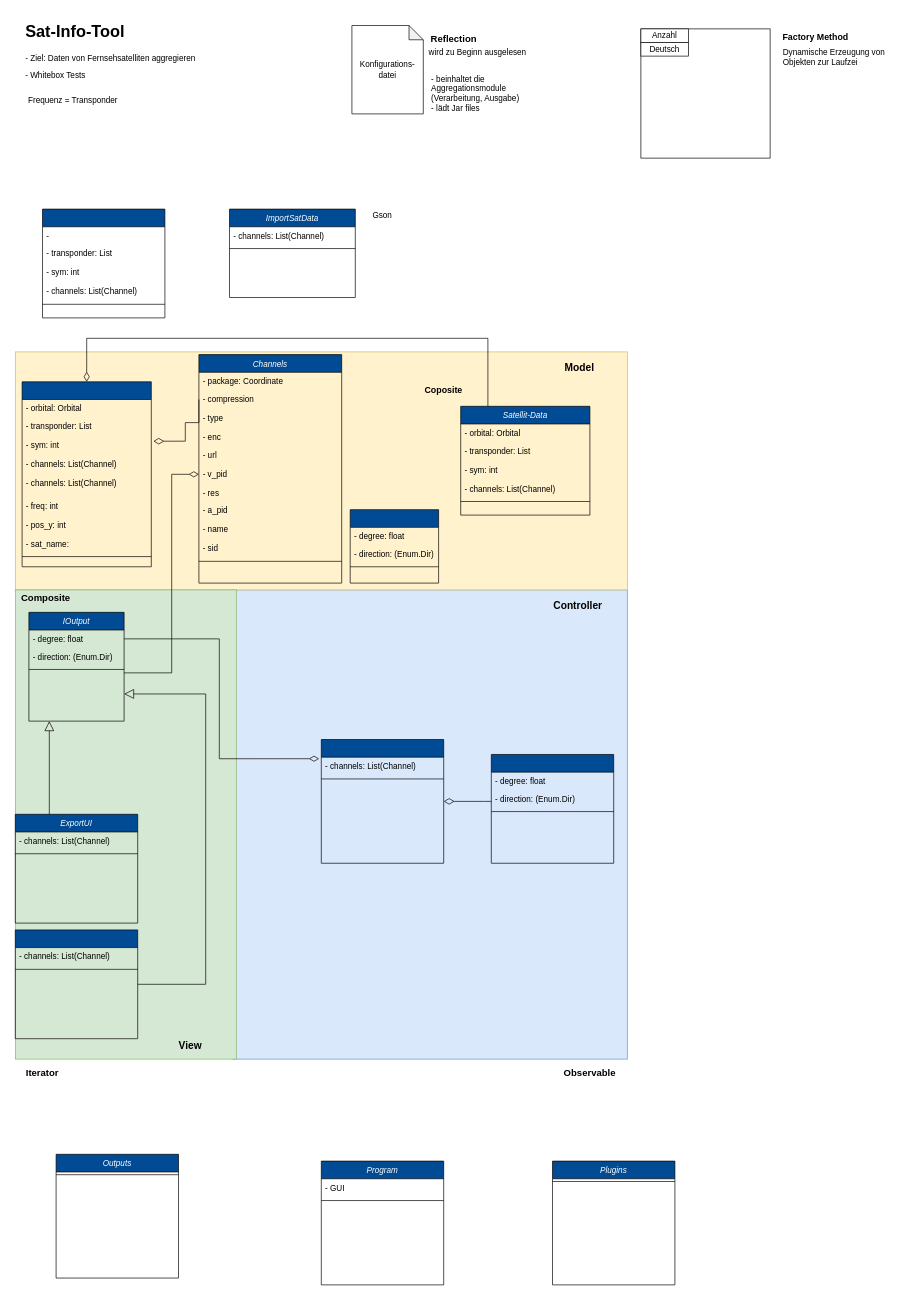
The diagram is 915 pixels wide and 1297 high, and some of its shapes have lost their labels. The shapes that lost their labels are listed below. From the top down, each one's box as (x1, y1, x2, y2) in pixels, then its label:
(42, 208, 165, 318): KonfigData
(21, 381, 151, 567): Satellit
(350, 509, 439, 583): Orbital
(321, 739, 444, 863): Sat-infoTool
(491, 754, 614, 863): IAggregat
(15, 929, 138, 1039): ExportJSON
